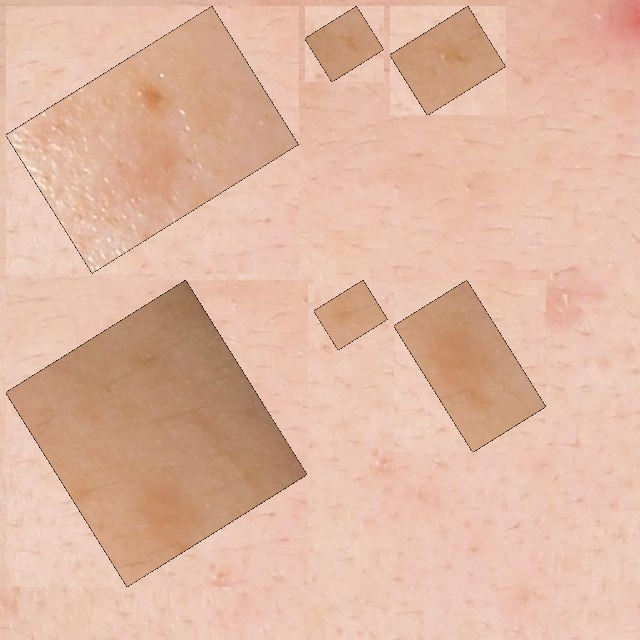melasma: (17, 291, 296, 576), (17, 17, 287, 262), (405, 291, 535, 441), (401, 17, 495, 104), (316, 17, 373, 71), (325, 291, 377, 339)
